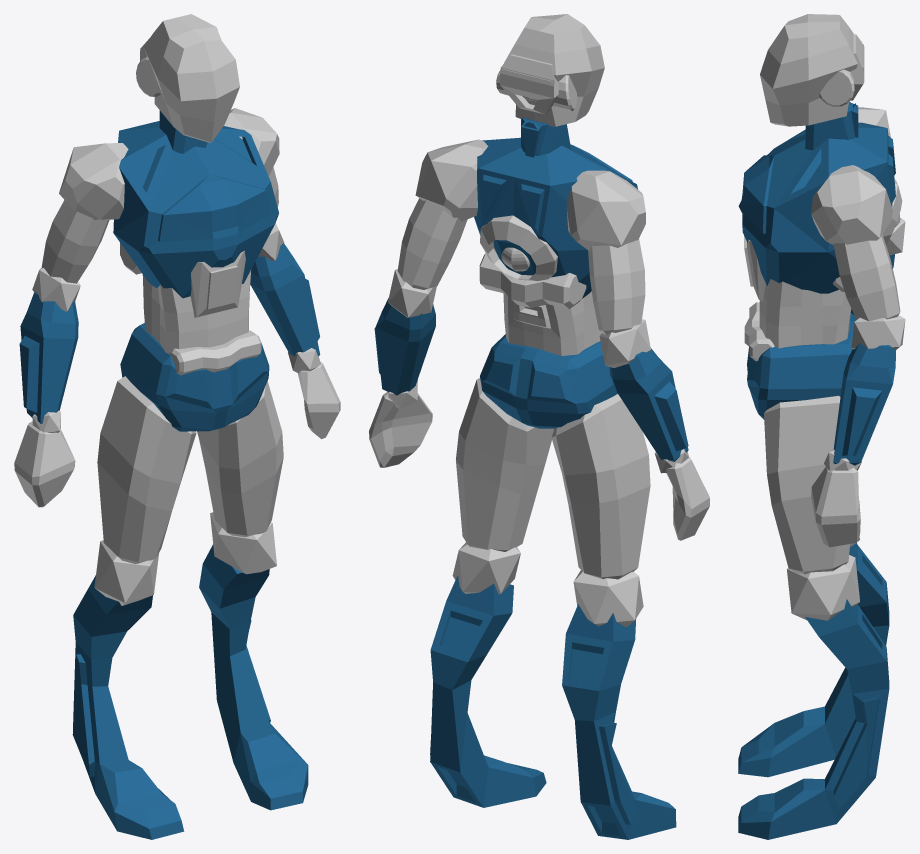
File: player_BLUE.obj
3 renders of one model, left to right at view 1: azimuth 30°, elevation 25°; view 2: azimuth 150°, elevation 25°; view 3: azimuth 270°, elevation 25°, orthographic. The views are drawn at different scales.
Parts seen in each view (by area): view 1: chest_Cube.001; view 2: chest_Cube.001; view 3: chest_Cube.001.
Boxes of the visible parts, bbox=[...] form: chest_Cube.001: bbox=[14, 14, 340, 839]; chest_Cube.001: bbox=[369, 14, 709, 839]; chest_Cube.001: bbox=[738, 14, 905, 839].
Size of the model in its own units: 4.41 by 10.47 by 2.05.
